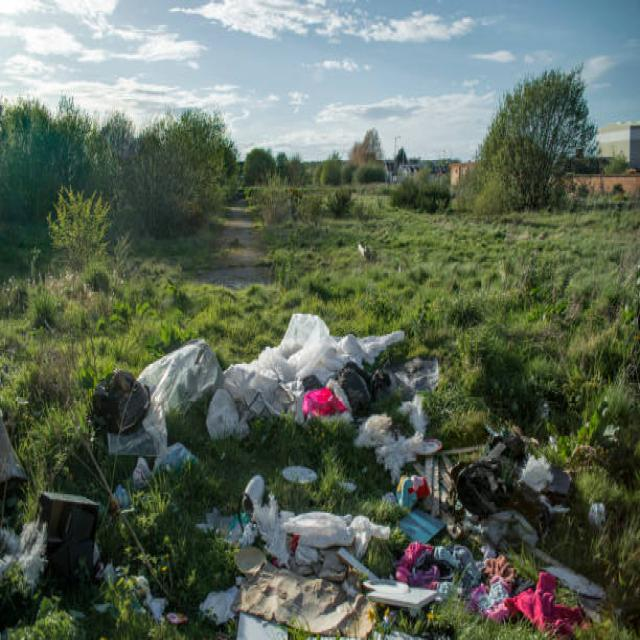trash: (85, 345, 545, 610)
